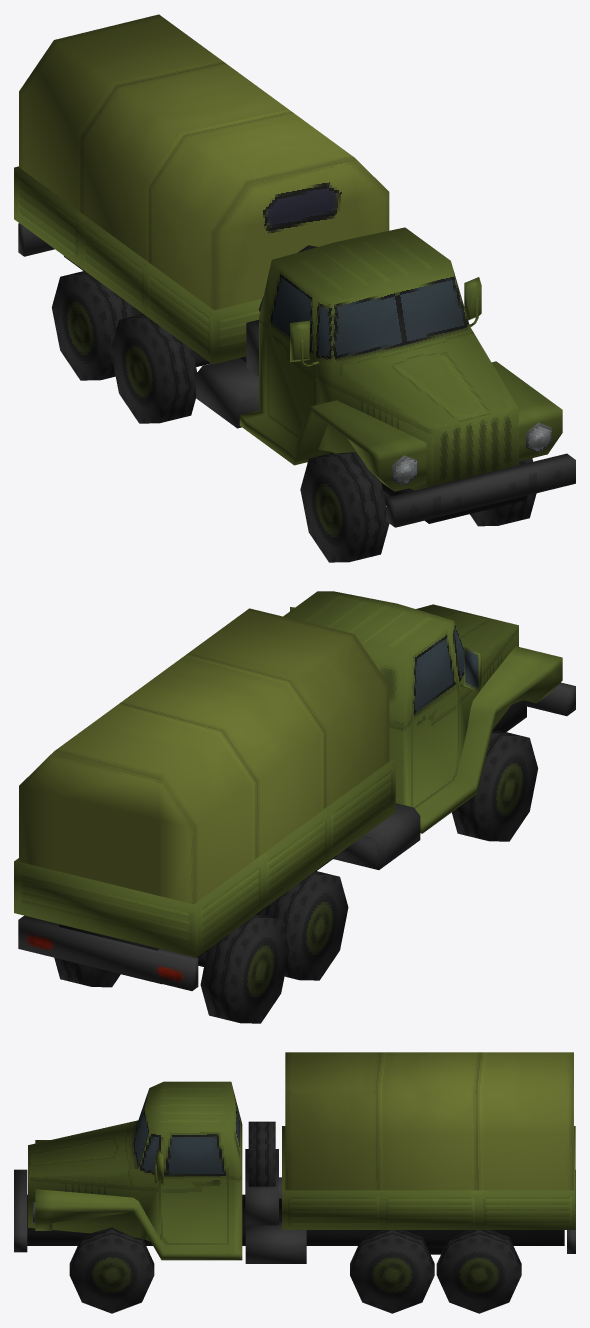
Rendered from truck.glb.
The picture shows the model from 3 angles, top to bottom: view 1: azimuth 30°, elevation 25°; view 2: azimuth 150°, elevation 25°; view 3: azimuth 270°, elevation 25°; orthographic projection. The views are drawn at different scales.
Visible parts, largest first — view 1: Ural; view 2: Ural; view 3: Ural.
Part boxes in pixels (box(x1,y1,x2,y2)): Ural: box(14, 14, 575, 562); Ural: box(14, 591, 575, 1023); Ural: box(14, 1052, 575, 1313).
Bounding box in the file's own units: 2.09 × 3.01 × 7.29.
1 material, 1 textured.
